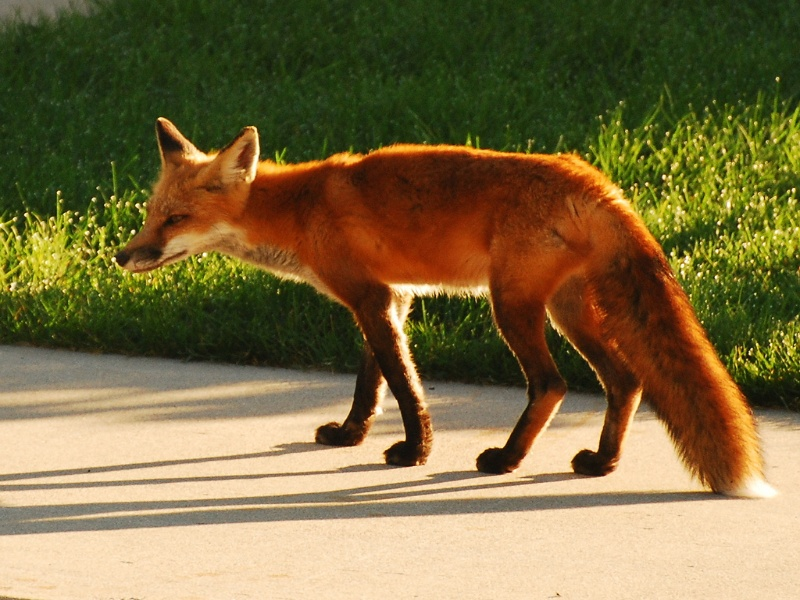fox: (114, 113, 778, 500)
